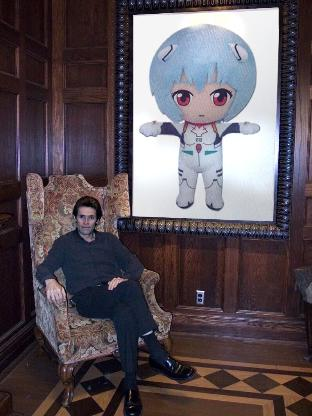rei-plush: (132, 16, 272, 218)
